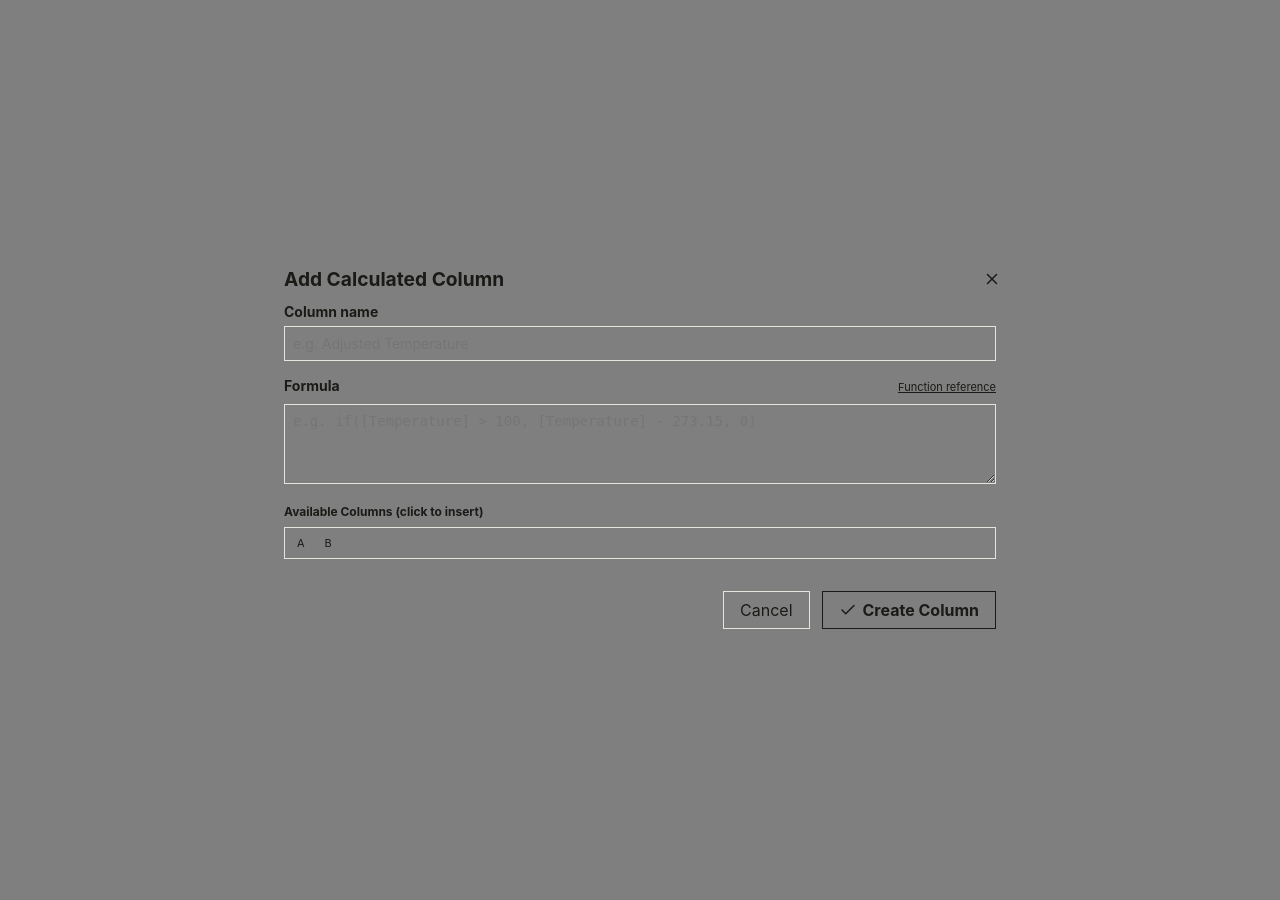
Test case: CalculatedColumnModal › shows default error if calculation fails without specific error message
Note: Fill inputs
Type "New Calc" into the field labelled "Column name".
click(640, 344); type("New Calc")  # box [284,326,996,361]
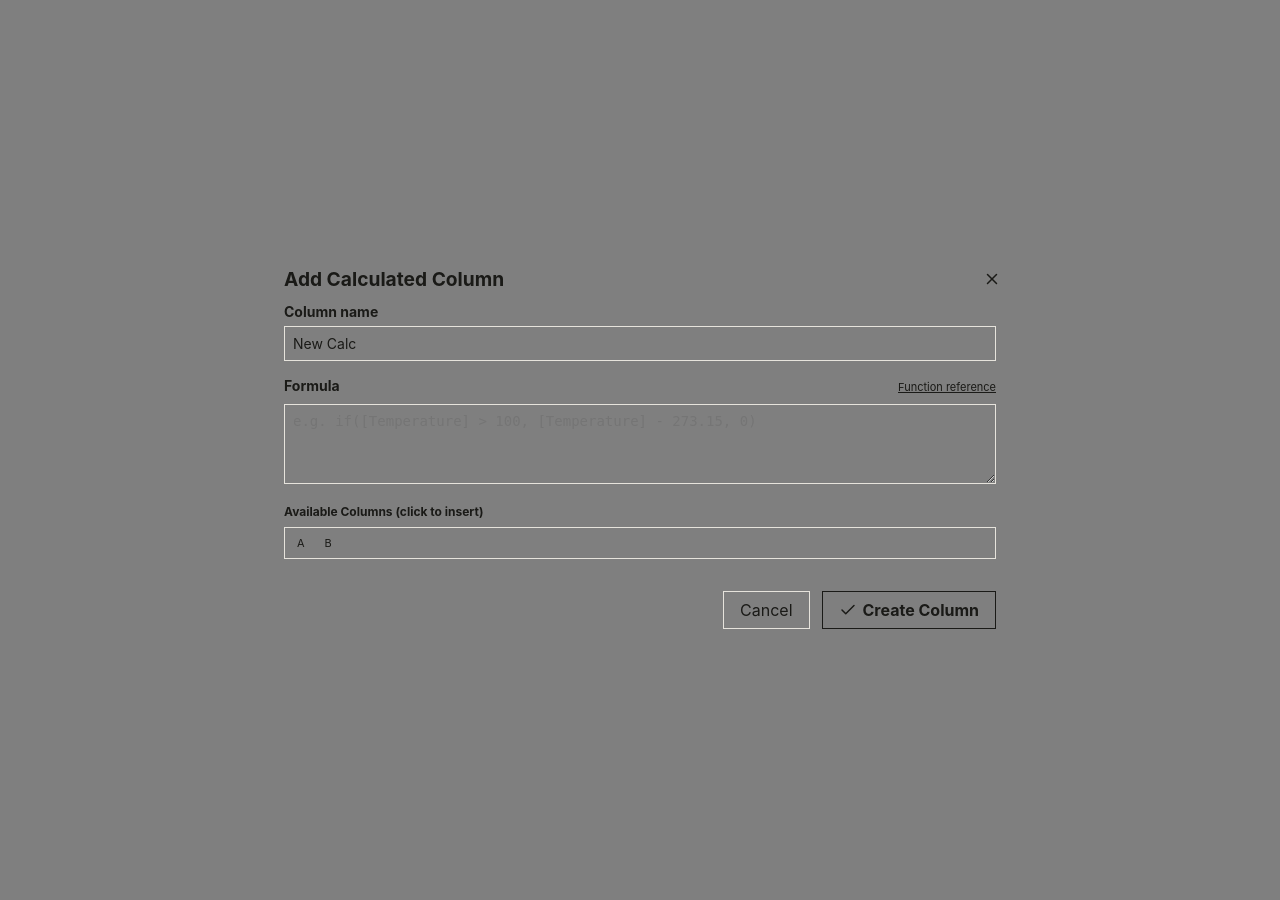
Type "[A] + [B]" into the text box labelled "Formula".
click(640, 444); type("[A] + [B]")  # box [284,404,996,484]
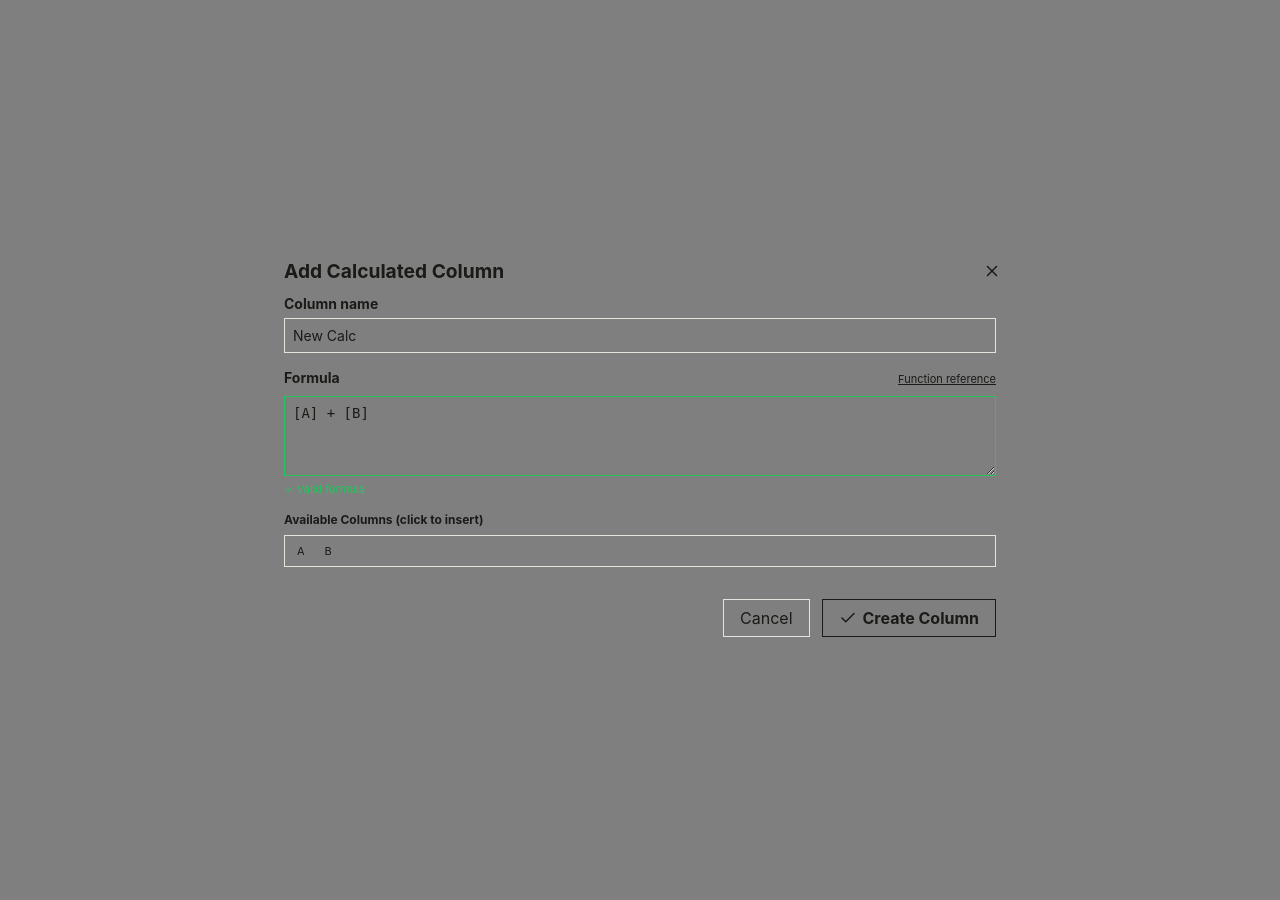
Note: Submit form
Click the button "Create Column".
click(909, 618)  # box [822,599,996,637]
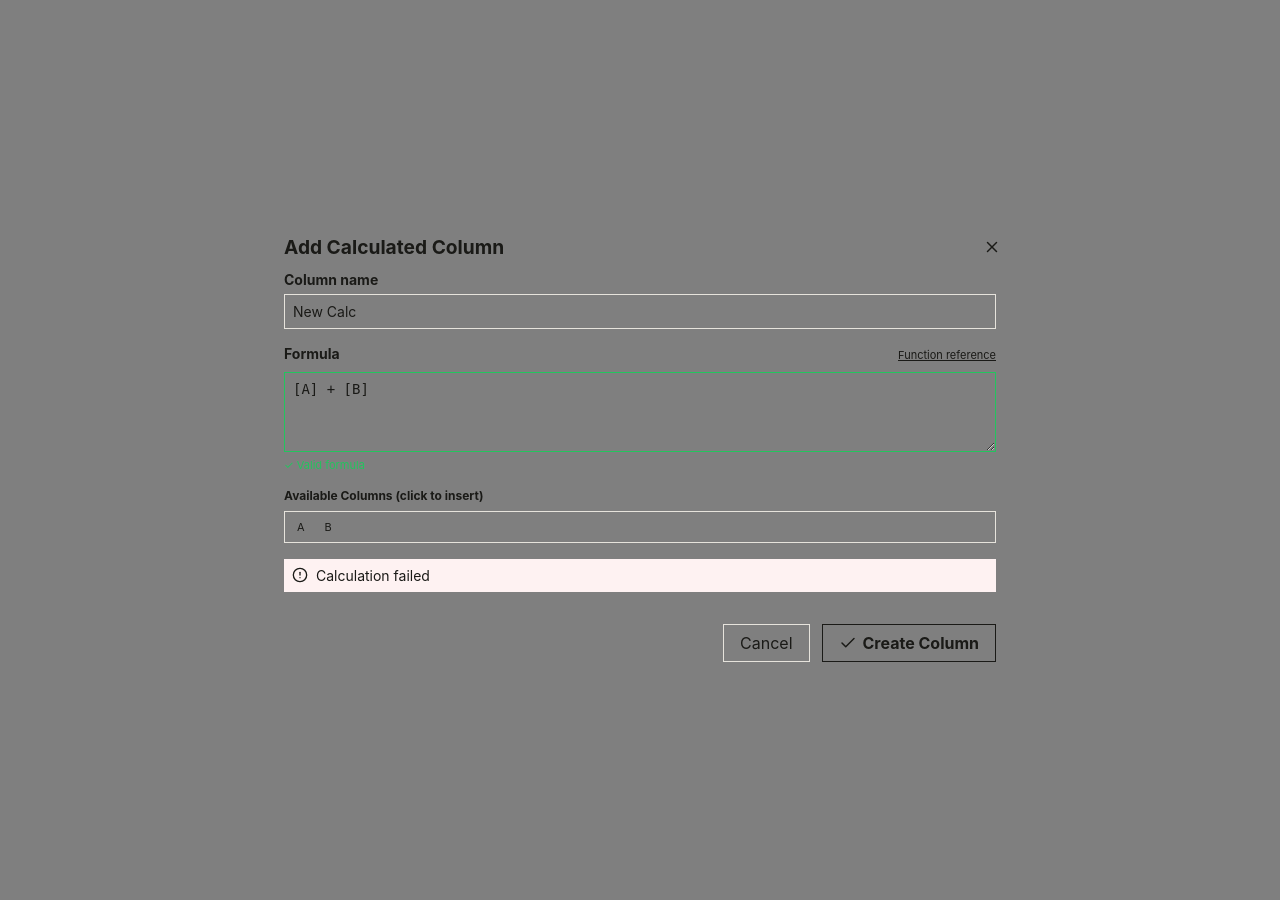
Expected: the text "Calculation failed" is shown, [316,566,430,584]
